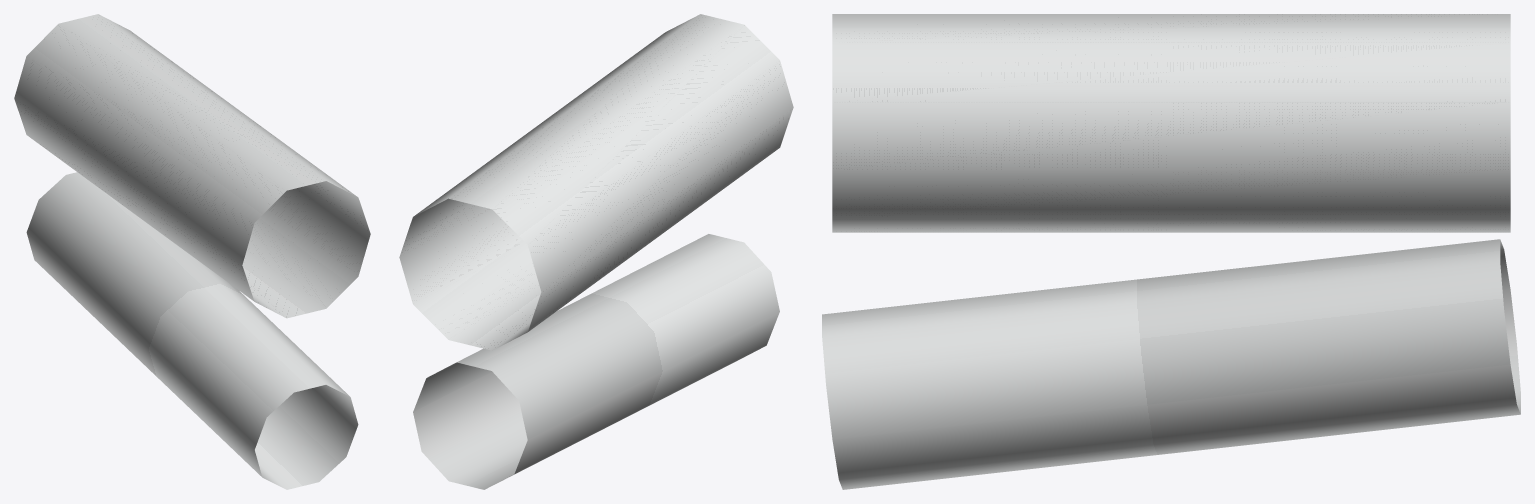
Rendered from trusssignalarm_level10_c12.obj.
The picture shows the model from 3 angles, left to right: view 1: azimuth 30°, elevation 25°; view 2: azimuth 150°, elevation 25°; view 3: azimuth 270°, elevation 25°; orthographic projection. The views are drawn at different scales.
Parts seen in each view (by area): view 1: trusssignalarm_level10_c12; view 2: trusssignalarm_level10_c12; view 3: trusssignalarm_level10_c12.
Boxes of the visible parts, x1,y1,x2,y2 form: trusssignalarm_level10_c12: [14, 14, 370, 489]; trusssignalarm_level10_c12: [399, 14, 793, 489]; trusssignalarm_level10_c12: [822, 14, 1520, 489].
Bounding box in the file's own units: 0.325 × 0.7322 × 1.03.
